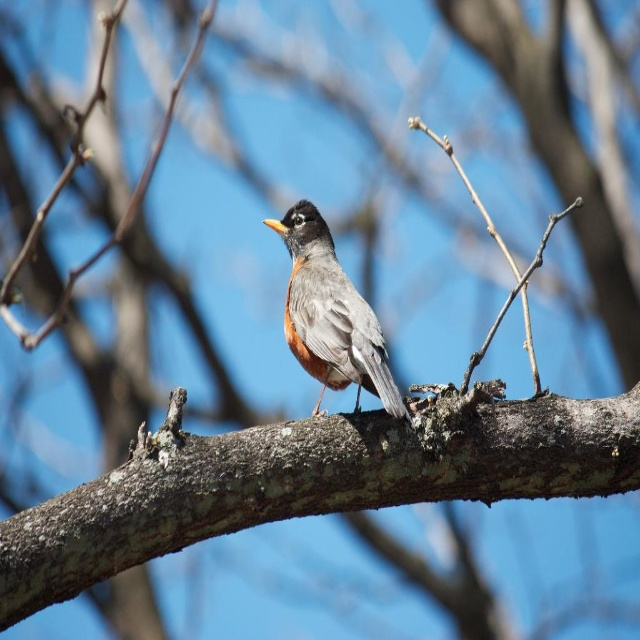Sparrow: (264, 195, 413, 420)
